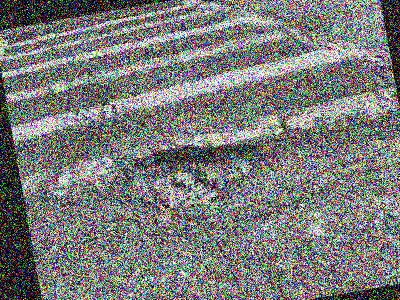pothole: (104, 127, 284, 225)
